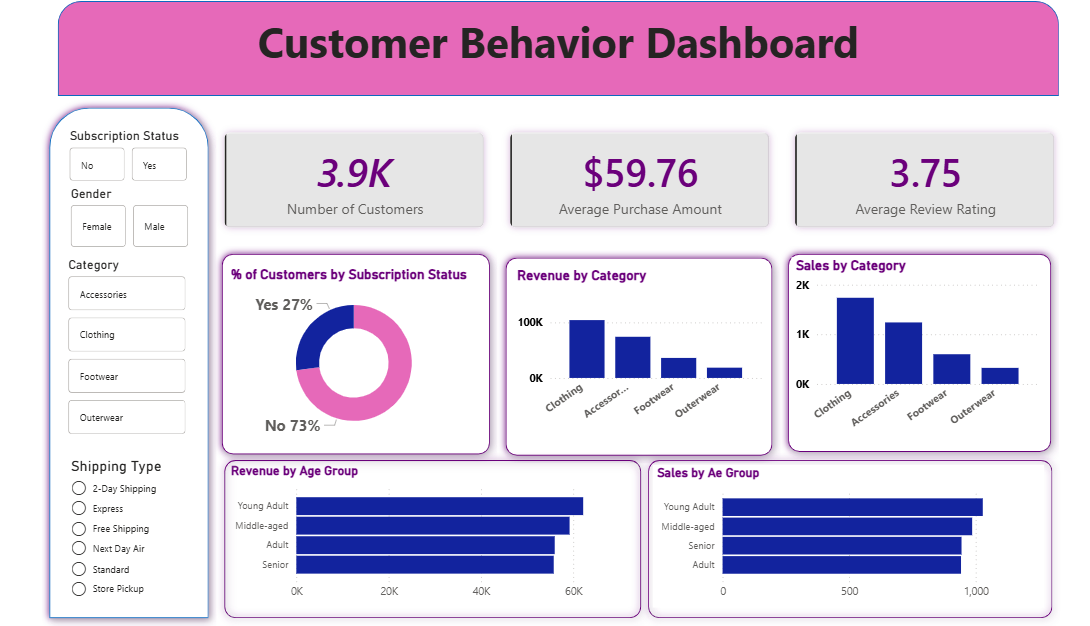

Layout of this report page (visuals, bound fields, positions):
{"tool":"powerbi","page":{"name":"Page 1","canvas":[1280,720],"ordinal":0},"visuals":[{"type":"cardVisual","fields":{"Data":["public customer.Number of Customers","public customer.Average Purchase Amount","public customer.Average Review Rating"]},"box":[230,128.6,1005.7,164.3],"z":0},{"type":"shape","box":[67.1,5.7,1144.3,108.6],"z":1000},{"type":"textbox","box":[67.1,14.3,1144.3,114.3],"z":2000},{"type":"shape","box":[245.7,285.7,324.3,247.1],"z":3000},{"type":"donutChart","title":"% of Customers by Subscription Status","fields":{"Category":["public customer.subscription_status"],"Y":["CountNonNull(public customer.customer_id)"]},"box":[260,308.6,291.4,204.3],"z":4000},{"type":"shape","box":[892.9,285.7,318.6,244.3],"z":5000},{"type":"shape","box":[570,290,322.9,244.3],"z":6000},{"type":"clusteredColumnChart","title":"Revenue by Category","fields":{"Y":["Sum(public customer.purchase_amount)"],"Category":["public customer.category"]},"box":[587.1,310,290,185.7],"z":7000},{"type":"clusteredColumnChart","title":"Sales by Category","fields":{"Category":["public customer.category"],"Y":["CountNonNull(public customer.customer_id)"]},"box":[905.7,298.6,288.6,210],"z":7001},{"type":"shape","box":[48.6,118.6,200,601.4],"z":7002},{"type":"advancedSlicerVisual","title":"Subscription Status","fields":{"Values":["public customer.subscription_status"]},"box":[75.1,151.4,144.3,65.7],"z":7003},{"type":"advancedSlicerVisual","title":"Gender","fields":{"Values":["public customer.gender"]},"box":[76.6,217.1,144.3,75.7],"z":7004},{"type":"advancedSlicerVisual","title":"Category","fields":{"Values":["public customer.category"]},"box":[73.7,298.6,144.3,210],"z":7005},{"type":"listSlicer","title":"Shipping Type","fields":{"Values":["public customer.shipping_type"]},"box":[77.1,527.1,141.4,171.4],"z":7006},{"type":"clusteredBarChart","title":"Revenue by Age Group","fields":{"Y":["Sum(public customer.purchase_amount)"],"Category":["public customer.age_group"]},"box":[260,534.3,464.3,164.3],"z":7007},{"type":"shape","box":[248.6,521.4,494.3,198.6],"z":7008},{"type":"shape","box":[732.9,521.4,480,198.6],"z":7009},{"type":"clusteredBarChart","title":"Sales by Ae Group","fields":{"Y":["CountNonNull(public customer.customer_id)"],"Category":["public customer.age_group"]},"box":[747.1,535.7,447.1,162.9],"z":7010}]}

Visuals, with their boxes in screenshot pixels (x1, y1, x2, y2), scaled from the page's 1280x720 canvas onto the 1090x626 screenshot:
cardVisual - public customer.Number of Customers x public customer.Average Purchase Amount: <bbox>196, 112, 1052, 255</bbox>
shape: <bbox>57, 5, 1032, 99</bbox>
textbox: <bbox>57, 12, 1032, 112</bbox>
shape: <bbox>209, 248, 485, 463</bbox>
"% of Customers by Subscription Status" donutChart: <bbox>221, 268, 470, 446</bbox>
shape: <bbox>760, 248, 1032, 461</bbox>
shape: <bbox>485, 252, 760, 465</bbox>
"Revenue by Category" clusteredColumnChart: <bbox>500, 270, 747, 431</bbox>
"Sales by Category" clusteredColumnChart: <bbox>771, 260, 1017, 442</bbox>
shape: <bbox>41, 103, 212, 625</bbox>
"Subscription Status" advancedSlicerVisual: <bbox>64, 132, 187, 189</bbox>
"Gender" advancedSlicerVisual: <bbox>65, 189, 188, 255</bbox>
"Category" advancedSlicerVisual: <bbox>63, 260, 186, 442</bbox>
"Shipping Type" listSlicer: <bbox>66, 458, 186, 607</bbox>
"Revenue by Age Group" clusteredBarChart: <bbox>221, 465, 617, 607</bbox>
shape: <bbox>212, 453, 633, 625</bbox>
shape: <bbox>624, 453, 1033, 625</bbox>
"Sales by Ae Group" clusteredBarChart: <bbox>636, 466, 1017, 607</bbox>
